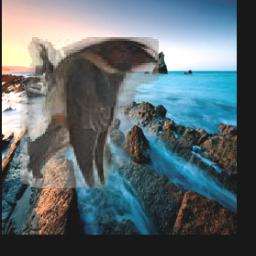Swallow: (21, 38, 160, 189)
